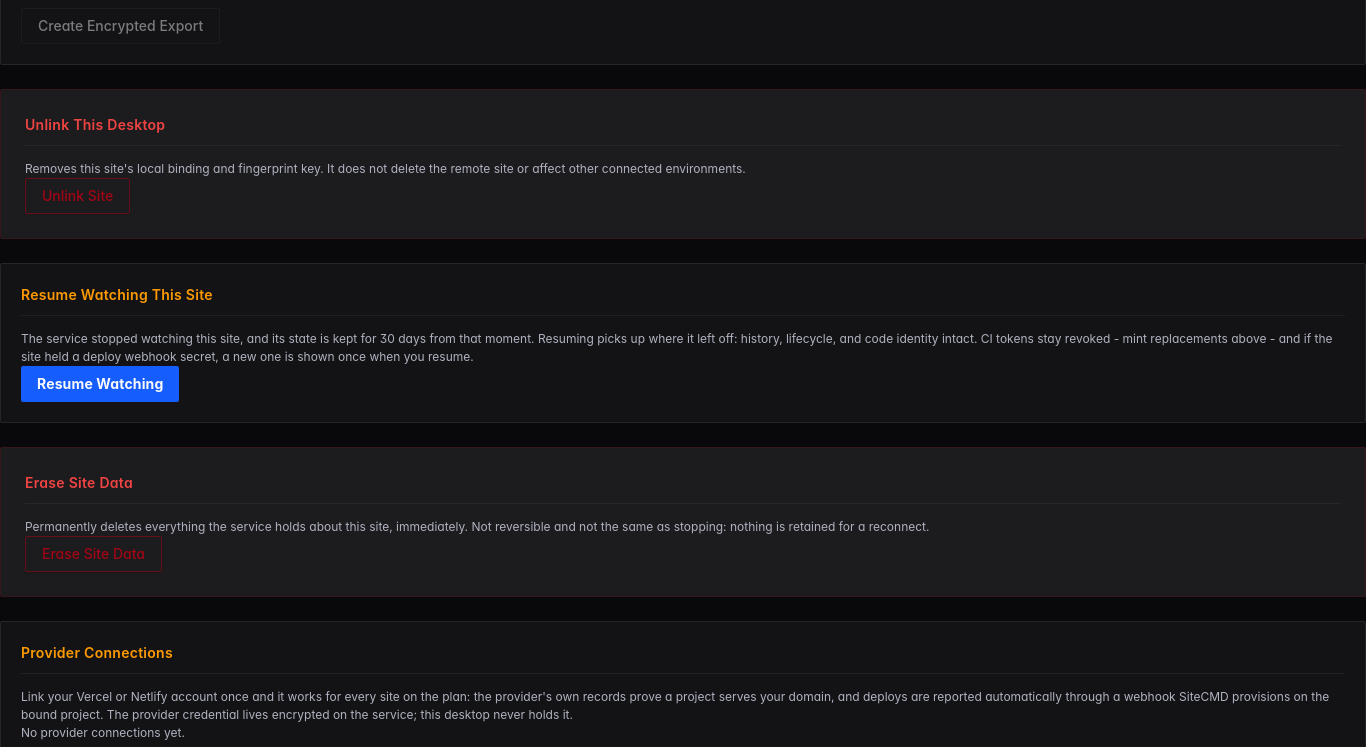
Test case: ConnectedServiceSection › offers resume instead of stop for a disconnected site, reminted secret shown once
(page scrolled)
Click the button "Resume Watching" at (100, 384), box [21,366,179,402]
(page scrolled)
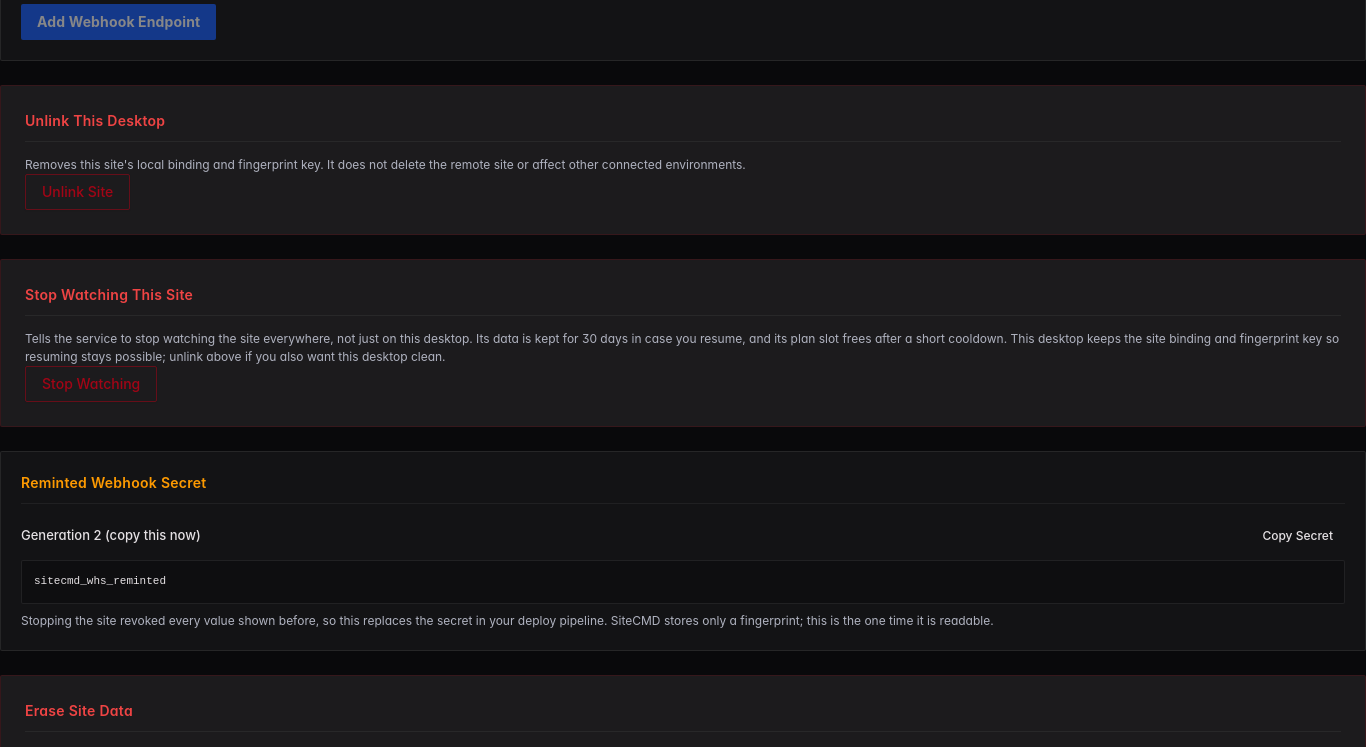
Expected: the text "sitecmd_whs_reminted" is shown, [21,560,1345,604]
Expected: the text "revoked every value shown before" is shown, [21,613,994,628]
Expected: the button "Stop Watching" is shown, [25,366,157,402]
